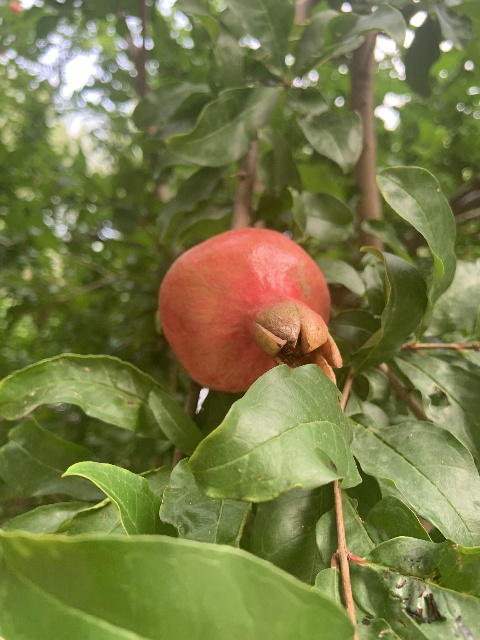ripe: (156, 227, 340, 393)
